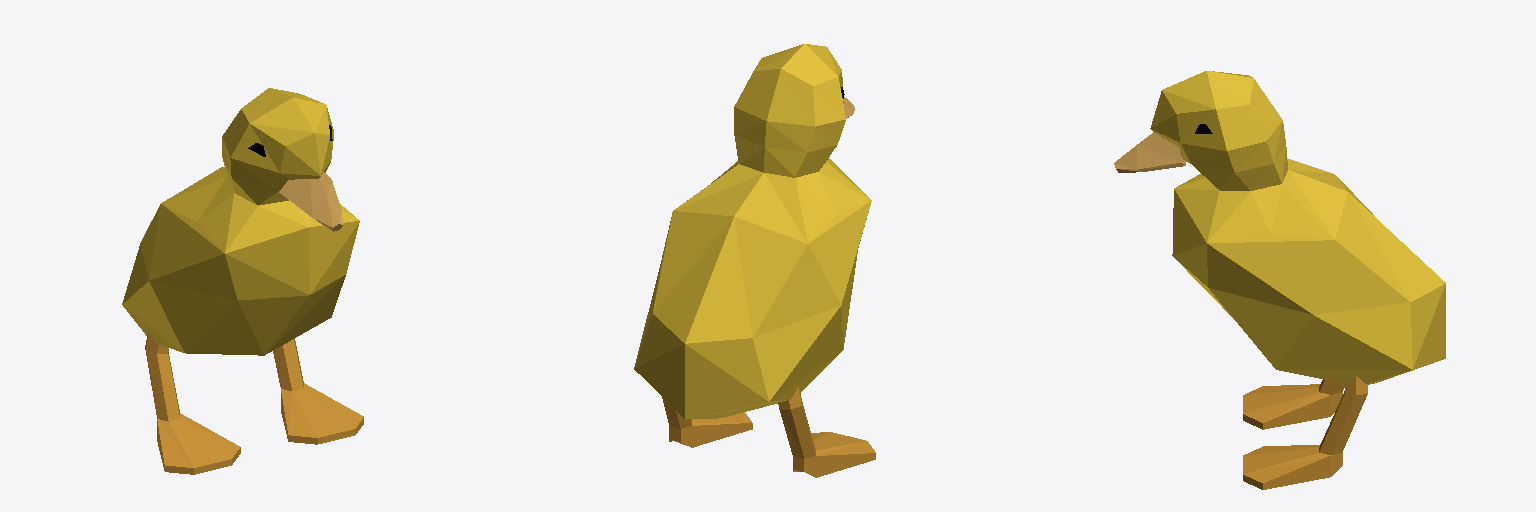
The picture shows the model from 3 angles: view 1: azimuth 30°, elevation 25°; view 2: azimuth 150°, elevation 25°; view 3: azimuth 270°, elevation 25°; orthographic projection.
Parts seen in each view (by area): view 1: Geo_Duckling; view 2: Geo_Duckling; view 3: Geo_Duckling.
Part boxes in pixels (x1,y1,x2,y2): Geo_Duckling: (122, 88, 363, 474); Geo_Duckling: (634, 44, 875, 477); Geo_Duckling: (1114, 71, 1445, 489).
Size of the model in its own units: 45.17 by 80.19 by 65.1.
Materials: 1 (1 with a texture image).